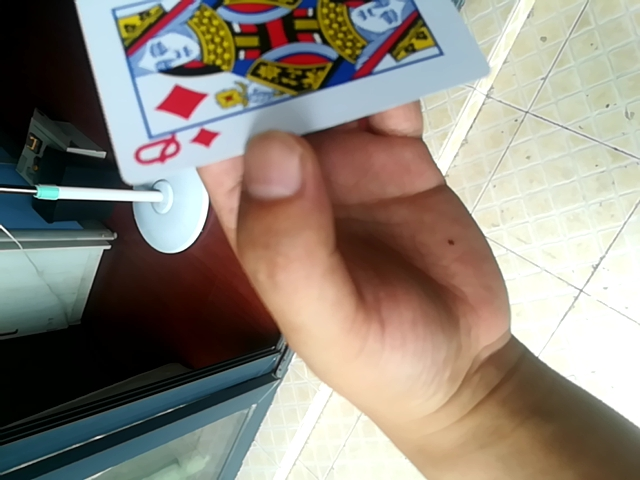fk q: (70, 1, 499, 182)
